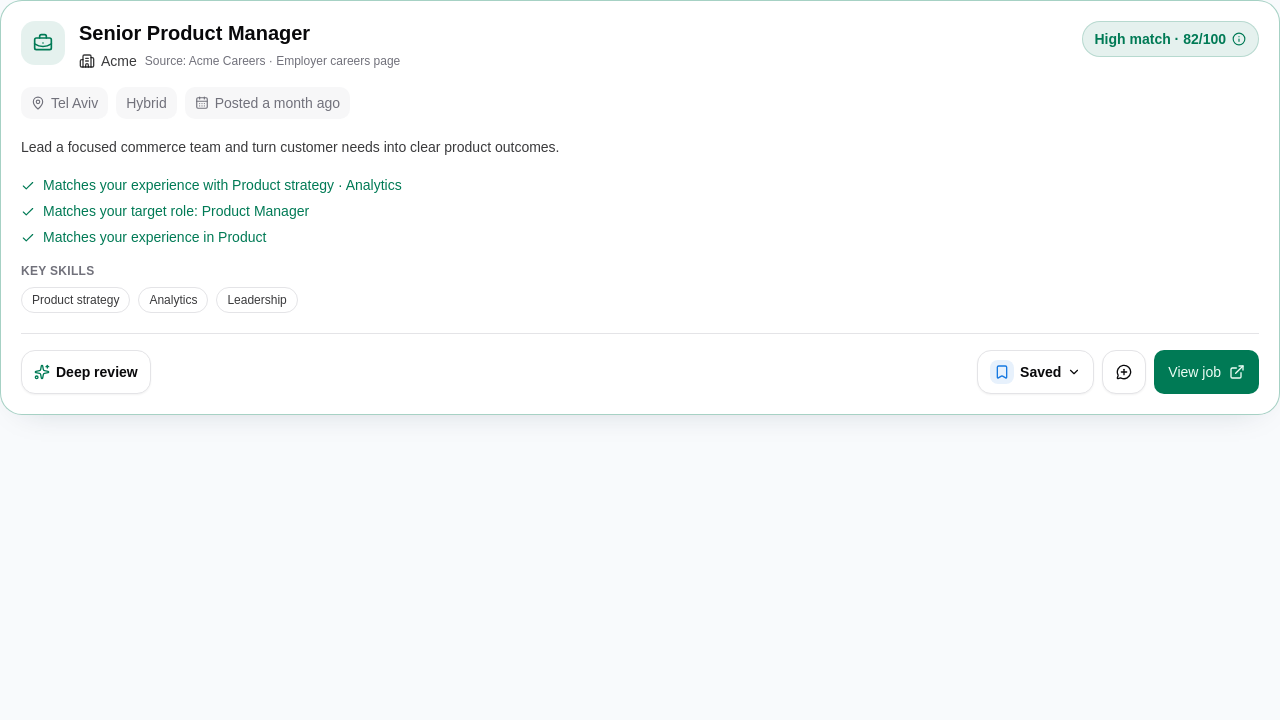
Test: job result cards › lets a saved suggestion move directly to another status
This screenshot has width=1280, height=720.
Click the button with aria-label "Change status: Saved".
click(1036, 372)  # box [977, 350, 1094, 394]
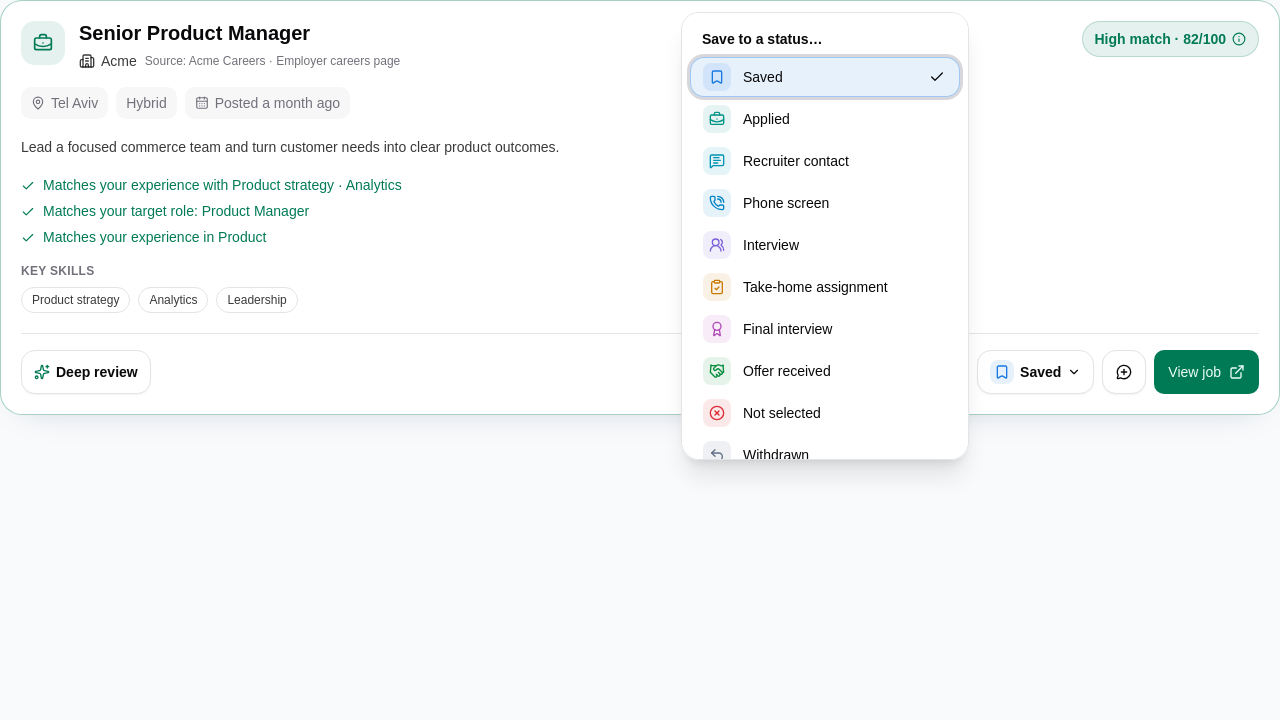
Click the button "Applied".
click(766, 119)  # box [690, 99, 960, 139]
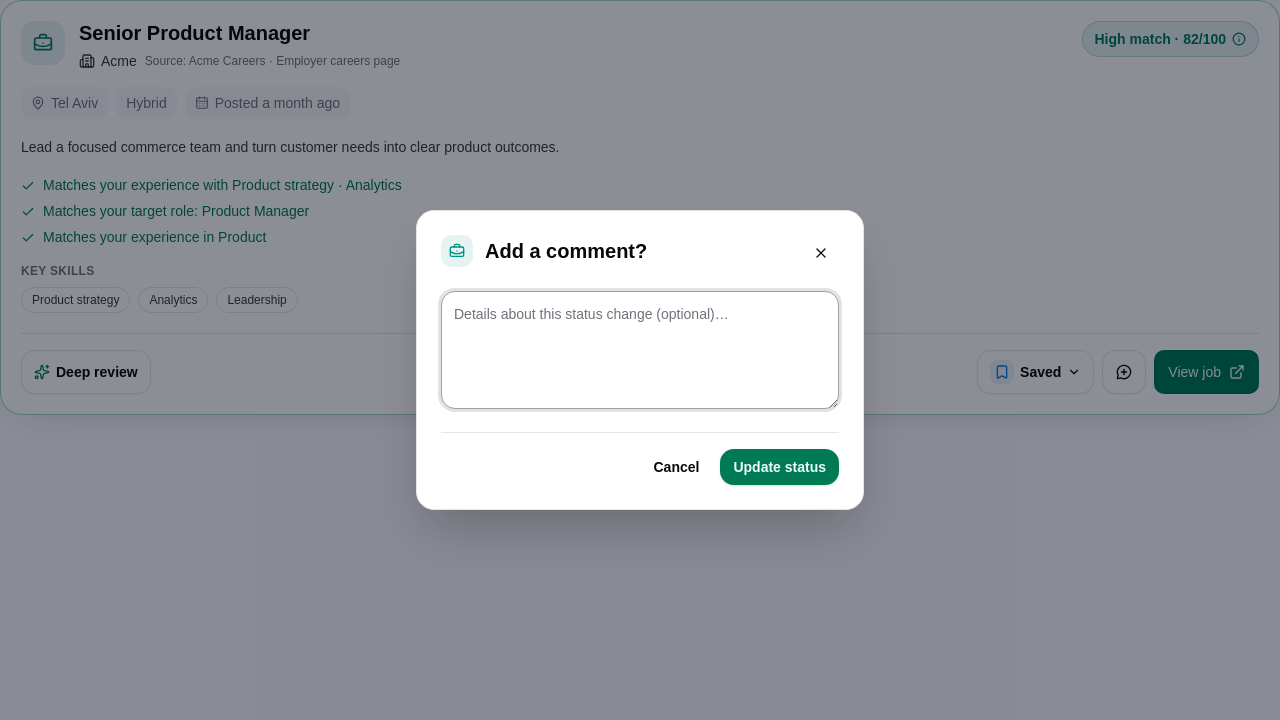
Click the button "Update status".
click(780, 467)  # box [720, 449, 839, 485]
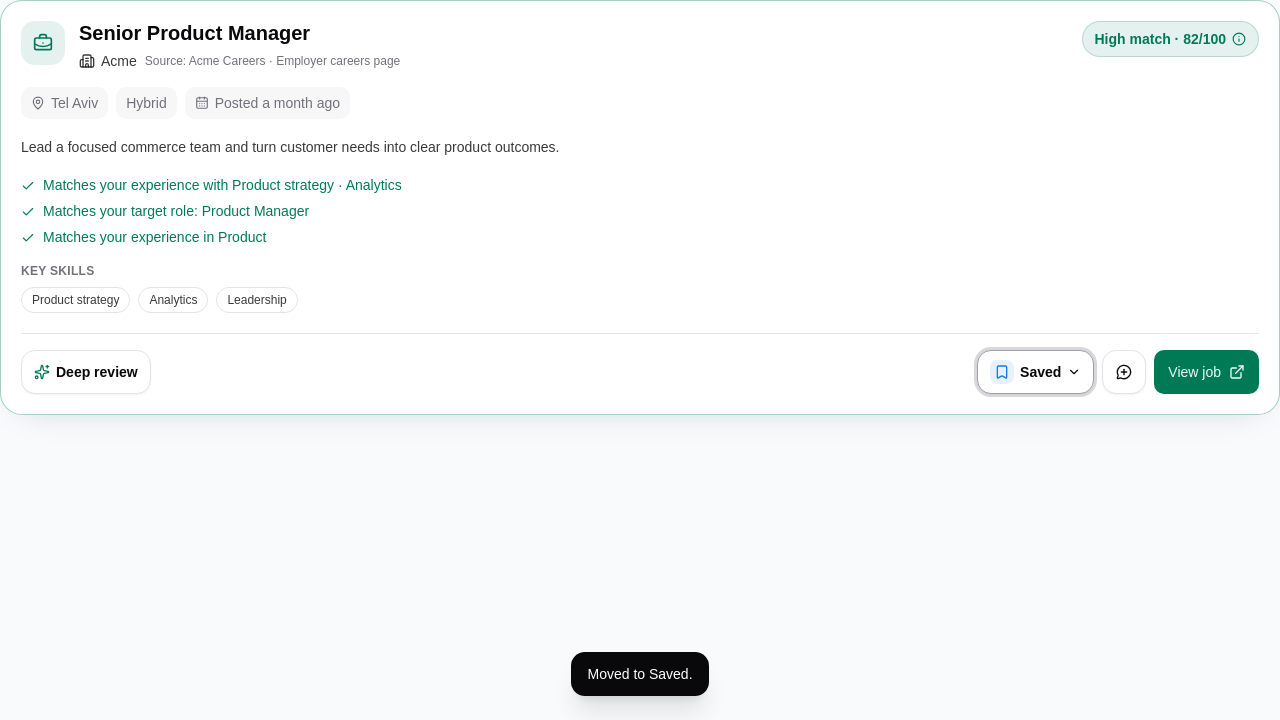
Expected: the message reads "Moved to Saved.", [588, 666, 693, 682]
